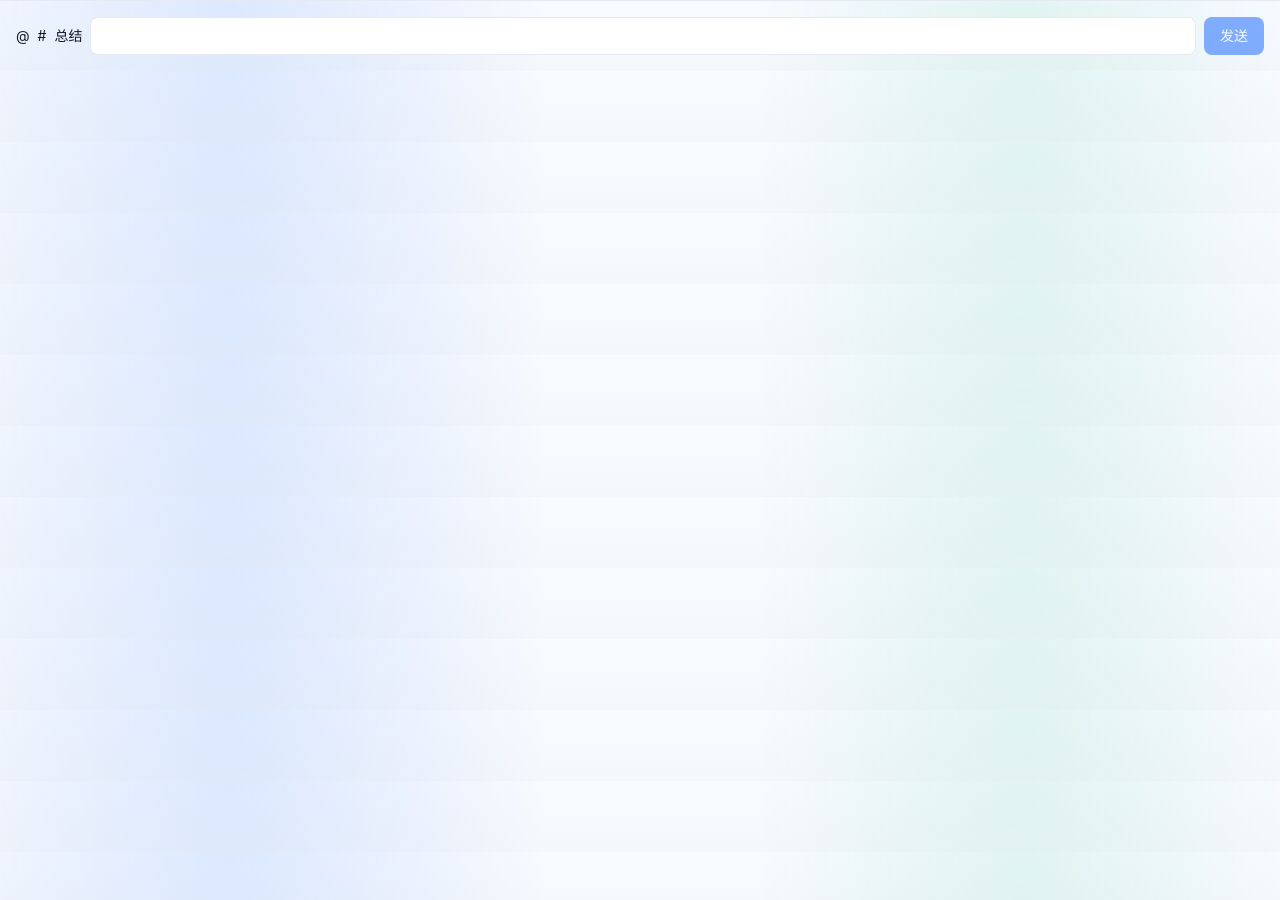
Test case: Discussion composer shortcut fill — Task-07 › fills the composer when toolbar shortcut buttons are clicked without sending
Click the button "@": {"x": 23, "y": 36} top-left (16, 17), bottom-right (30, 55)
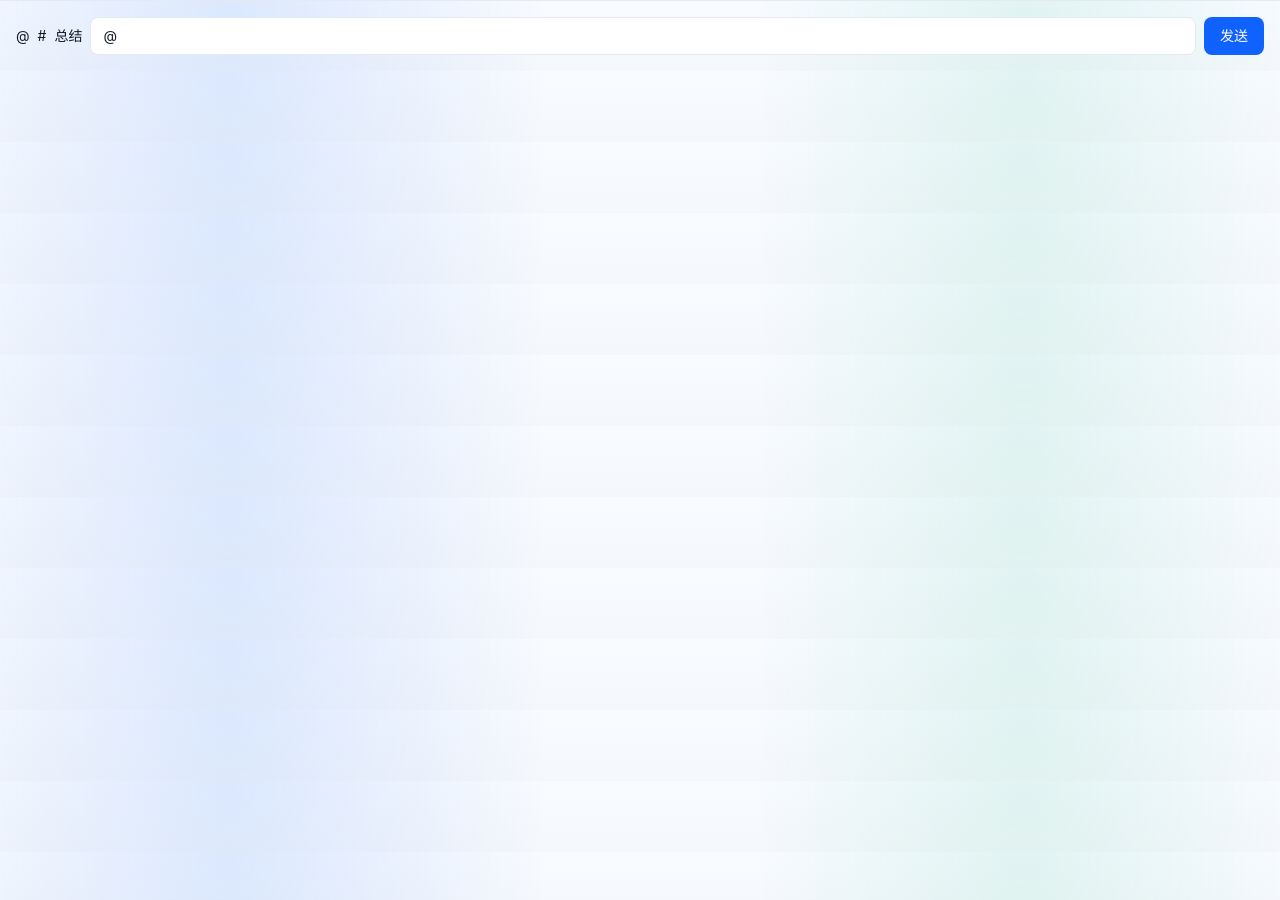
Now the field holds "@", box top-left (90, 17), bottom-right (1196, 55)
